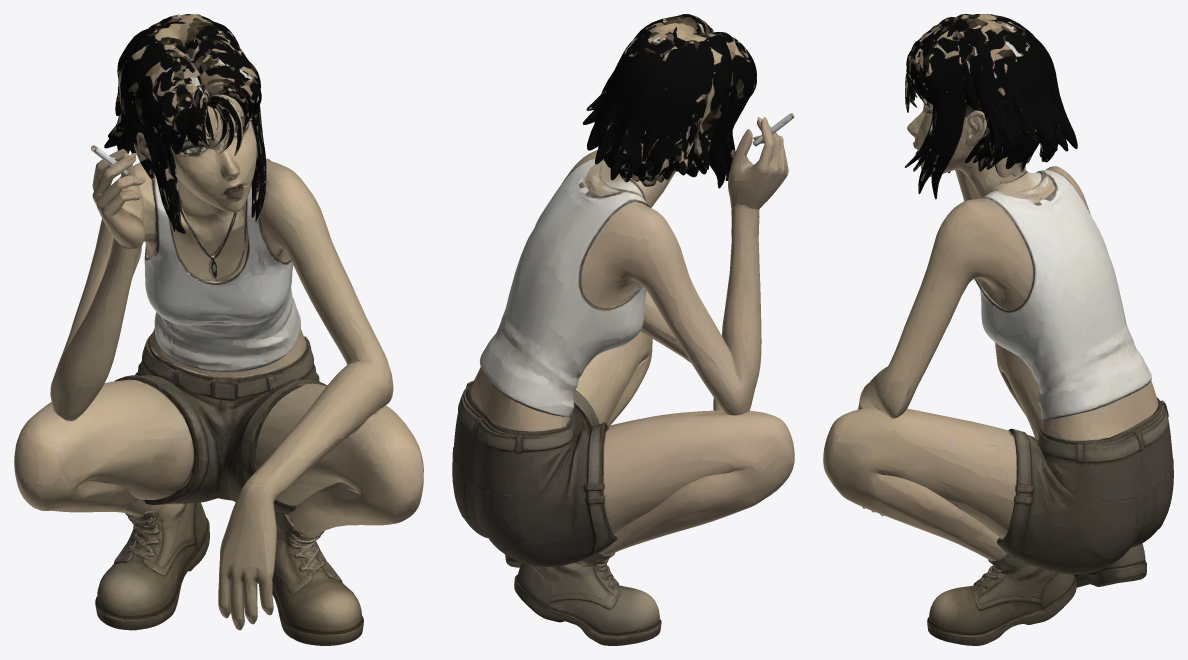
File: pathetic-talent-editors.glb
3 views of the same model, side by side, from view 1: azimuth 30°, elevation 25°; view 2: azimuth 150°, elevation 25°; view 3: azimuth 270°, elevation 25° (orthographic). The views are drawn at different scales.
Visible parts, largest first — view 1: mesh_node; view 2: mesh_node; view 3: mesh_node.
Boxes of the visible parts, left/top/right/bottom form: mesh_node: left=14, top=14, right=423, bottom=645; mesh_node: left=452, top=14, right=794, bottom=645; mesh_node: left=823, top=14, right=1173, bottom=645.
Size of the model in its own units: 1.05 by 1.9 by 1.08.
Materials: 1 (1 with a texture image).
